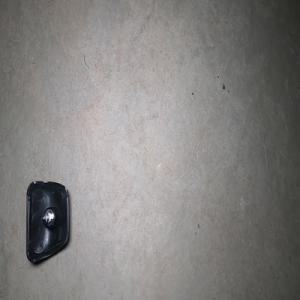LuggagePart: (25, 179, 70, 264)
